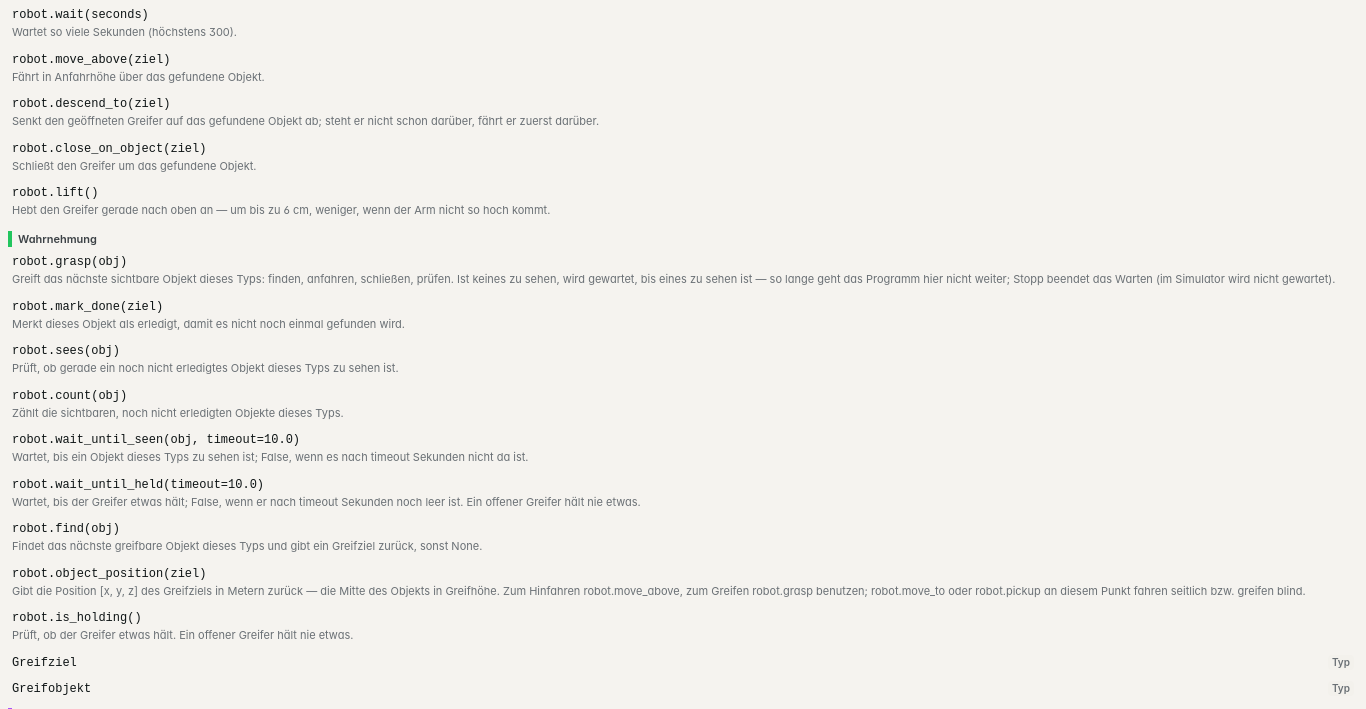
an entry › a value row says what comes back
(page scrolled)
Click the button "robot.sees(obj)" at (66, 351), box [4,338,1362,381]
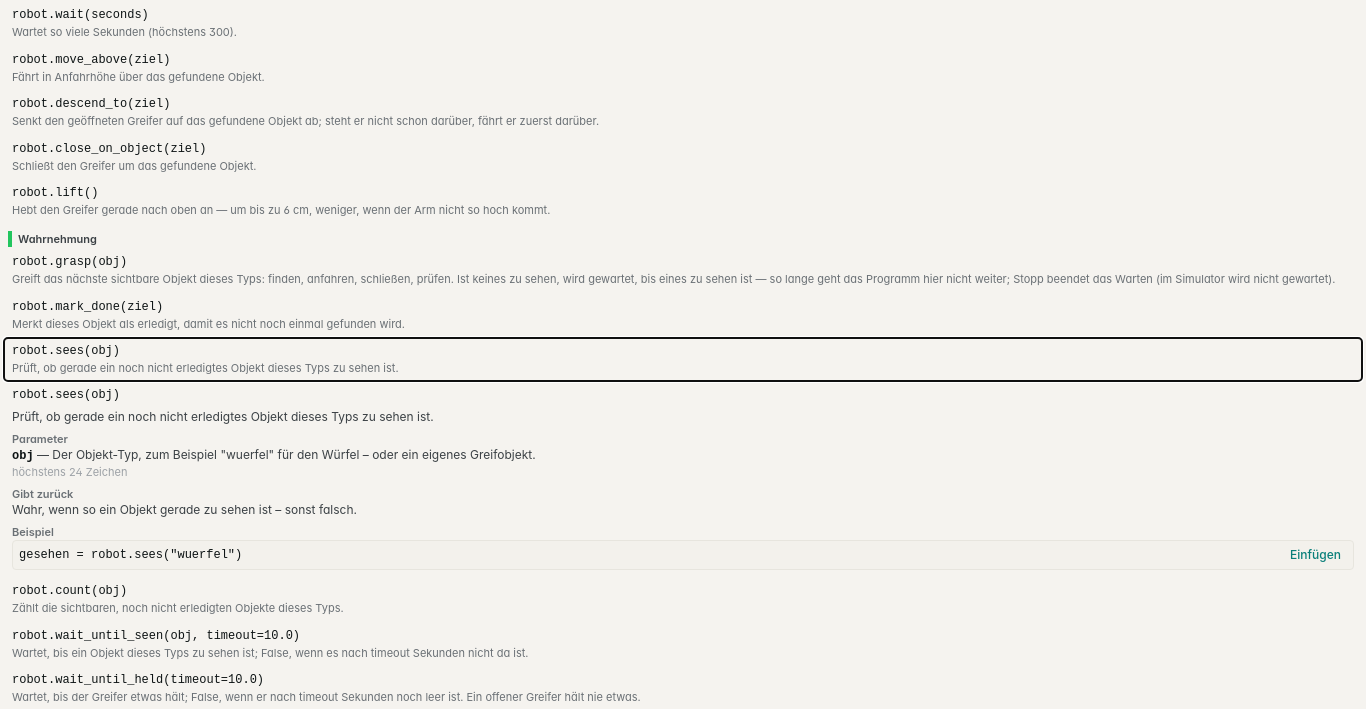
Expected: the heading "Gibt zurück" is shown, [12,487,73,501]
Expected: the text "Wahr, wenn so ein Objekt gerade zu sehen ist – sonst falsch." is shown, [12,502,357,517]
Expected: the text "gesehen = robot.sees(\"wuerfel\")" is shown, [19,548,242,562]
